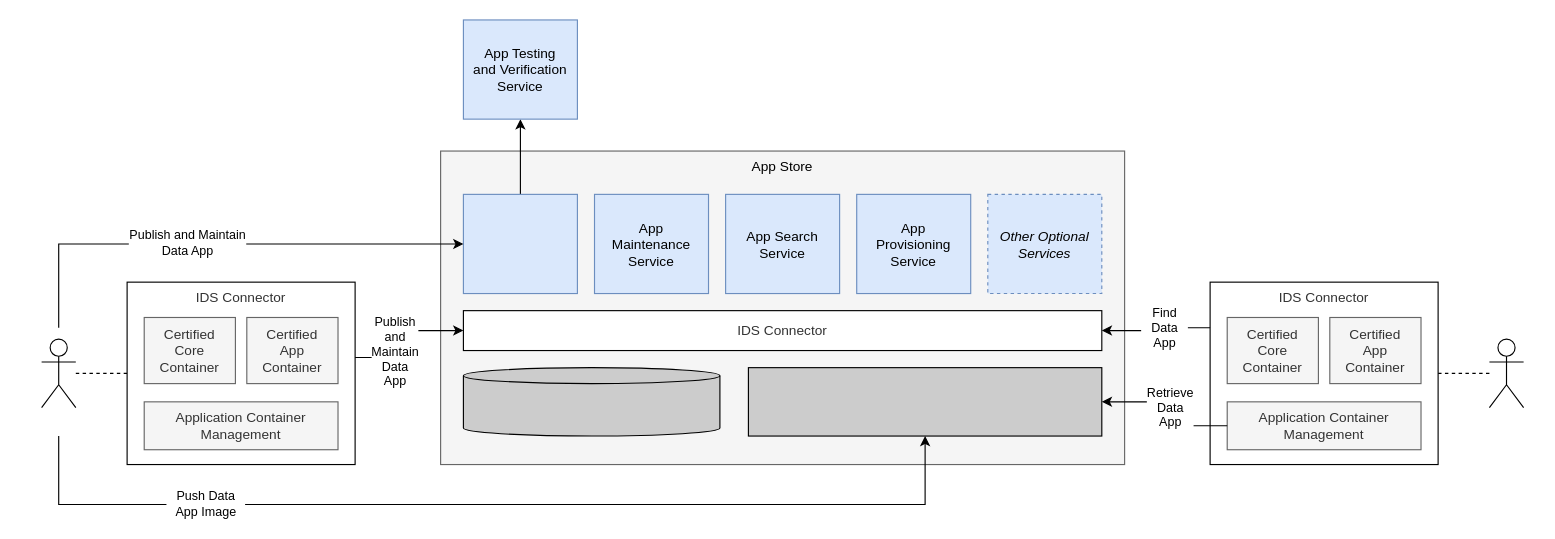
Image size: 1555x539. Some labels were removed from this diagram. Here are the shapes that lost their labels. From the top down, the centre of each, then its label:
[519,243]: App Registration and Publication Service
[58,373]: App Provider
[1506,373]: App User
[591,401]: App Metadata
[924,401]: App Container Registry
